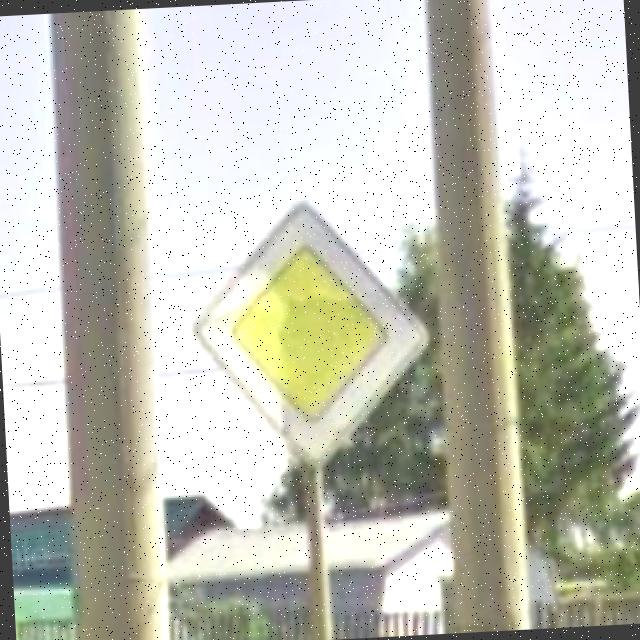Droga z pierwszenstwem: (185, 193, 438, 475)
